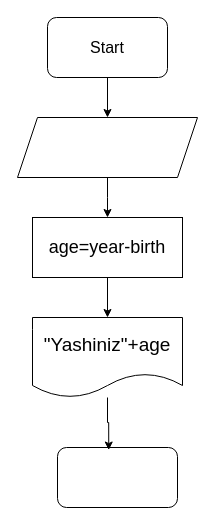
Some shapes in this 215 by 525 pixel diagram are drawn without their labels. The centre of each missing label's shape, as x and y in pixels:
"birth,year , age" goes at point 107,147.
"End" goes at point 117,477.
